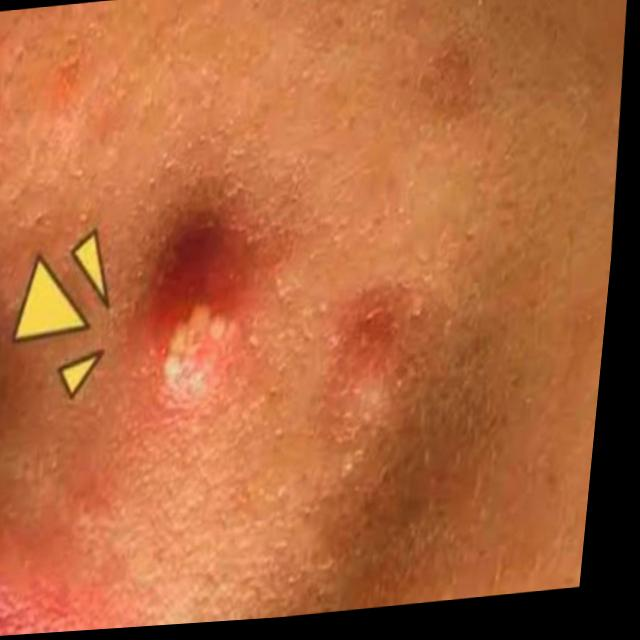nodule: (120, 236, 280, 455)
